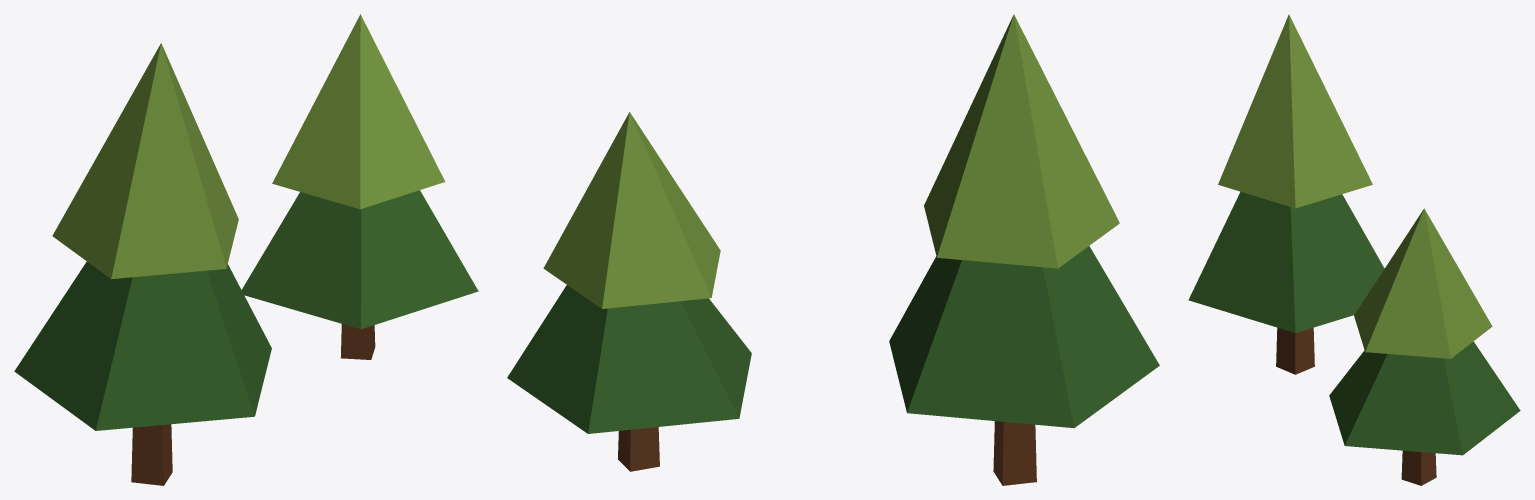
The model's file is PinePair.fbx.
3 views of the same model, side by side, from view 1: azimuth 30°, elevation 25°; view 2: azimuth 150°, elevation 25°; view 3: azimuth 270°, elevation 25° (orthographic). The views are drawn at different scales.
Visible parts, largest first — view 1: PinePair; view 2: PinePair; view 3: PinePair.
Part boxes in pixels (x1,y1,x2,y2): PinePair: (14, 14, 478, 485); PinePair: (507, 14, 1159, 485); PinePair: (1188, 14, 1520, 485).
Size of the model in its own units: 76.2 by 66.5 by 56.46.
